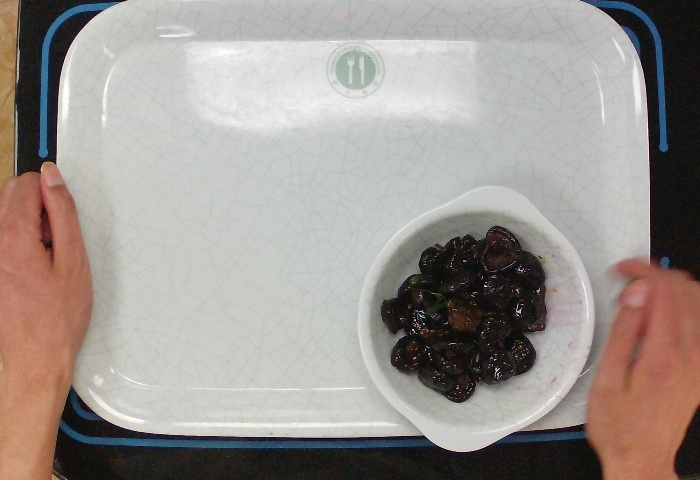JYsf-Shuang_Er_Wan: (353, 182, 599, 456)
